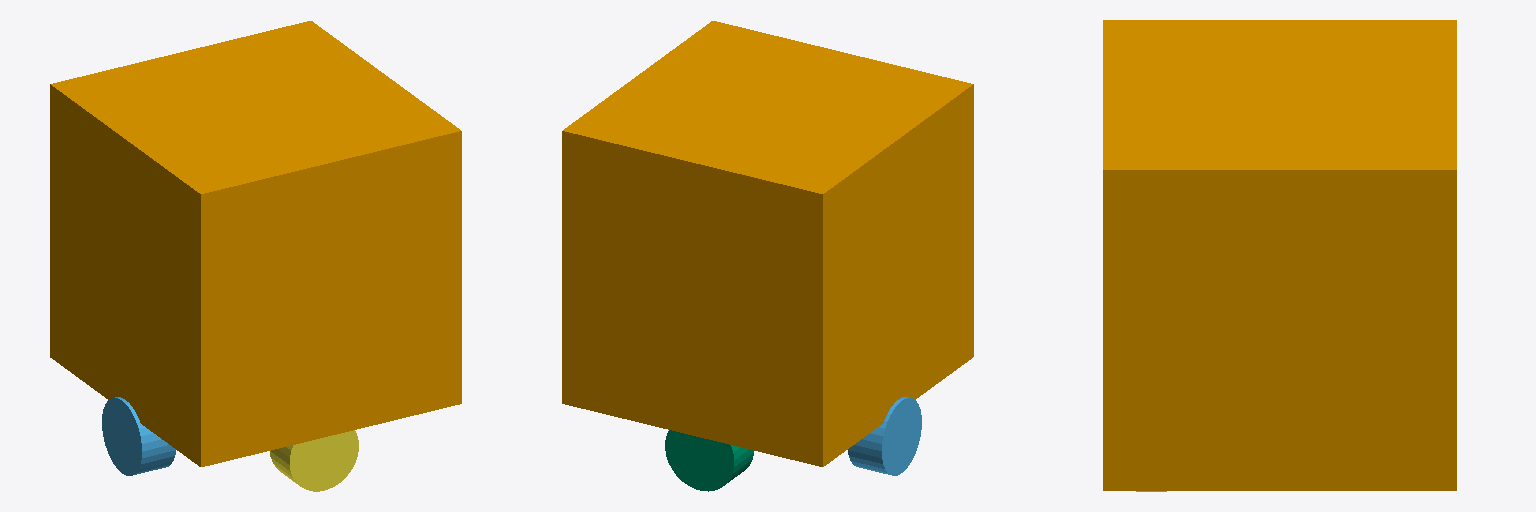
URDF robot description (robot):
<?xml version="1.0" ?>
<robot name="robot">
    <webots>
        <plugin type="omni_drive_sim.multi_robot_driver.MultiRobotDriver"/>
    </webots>

    <!--######-->
    <!-- BODY -->
    <!--######-->

    <link name="base_link">
		<visual>
            <geometry>
                <box size="0.075 0.075 0.075"/>
            </geometry>
            <material name="black"/>
		</visual>
		<collision>
            <geometry>
                <box size="0.075 0.075 0.075"/>
            </geometry>
		</collision>
	</link>


    <!--########-->
    <!-- WHEELS -->
    <!--########-->

     <!-- Motor 1 -->
    <joint name="motor1" type="continuous">
		<parent link="base_link"/>
		<child link="wheel1"/>
		<axis xyz="1 0 0"/>
		<limit effort="10" velocity="20"/>
		<origin xyz="-0.0335 0 -0.044" rpy="0 1.57 0"/>
	</joint>
	<link name="wheel1">
		<visual>
		    <origin xyz="0 0 0" rpy="0 0 0"/>
            <geometry>
                <cylinder radius="0.01" length="0.01"/>
            </geometry>
            <material name="red"/>
		</visual>
		<collision>
            <origin xyz="0 0 0" rpy="0 0 0"/>
            <geometry>
                <cylinder radius="0.01" length="0.01"/>
            </geometry>
		</collision>
	</link>

    <!-- Motor 2-->
    <joint name="motor2" type="continuous">
		<parent link="base_link"/>
		<child link="wheel2"/>
		<axis xyz="0 1 0"/>
		<limit effort="10" velocity="20"/>
		<origin xyz="0 0.029 -0.044" rpy="1.57 1.047 0"/>
	</joint>
	<link name="wheel2">
		<visual>
		    <origin xyz="0 0 0" rpy="0 0 0"/>
            <geometry>
                <cylinder radius="0.01" length="0.01"/>
            </geometry>
            <material name="red"/>
		</visual>
		<collision>
            <origin xyz="0 0 0" rpy="0 0 0"/>
            <geometry>
                <cylinder radius="0.01" length="0.01"/>
            </geometry>
		</collision>
	</link>

    <!-- Motor 3 -->
    <joint name="motor3" type="continuous">
		<parent link="base_link"/>
		<child link="wheel3"/>
		<axis xyz="0 1 0"/>
		<limit effort="10" velocity="20"/>
		<origin xyz="0 -0.029 -0.044" rpy="1.57 -1.047 0"/>
	</joint>
	<link name="wheel3">
		<visual>
		    <origin xyz="0 0 0" rpy="0 0 0"/>
            <geometry>
                <cylinder radius="0.01" length="0.01"/>
            </geometry>
            <material name="red"/>
		</visual>
		<collision>
            <origin xyz="0 0 0" rpy="0 0 0"/>
            <geometry>
                <cylinder radius="0.01" length="0.01"/>
            </geometry>
		</collision>
	</link>

   
</robot>

--- Render facts (derived) ---
The picture shows the robot from 3 angles, left to right: view 1: azimuth 30°, elevation 25°; view 2: azimuth 150°, elevation 25°; view 3: azimuth 270°, elevation 25°; orthographic projection.
Robot: robot — 4 links, 3 joints (3 continuous); root link base_link; default pose: every joint at zero.
Links seen in each view (by area): view 1: base_link, wheel3, wheel1; view 2: base_link, wheel2, wheel1; view 3: base_link.
Boxes of the visible links, x1,y1,x2,y2 form: base_link: [50, 21, 461, 466]; wheel3: [270, 430, 358, 491]; wheel1: [102, 397, 175, 475]; base_link: [562, 21, 973, 466]; wheel2: [665, 430, 753, 491]; wheel1: [848, 397, 921, 475]; base_link: [1103, 20, 1456, 490].
Size in the robot's own frame: 0.076 by 0.075 by 0.0915 metres.
Geometry: primitives only (box / cylinder / sphere), no mesh files.
